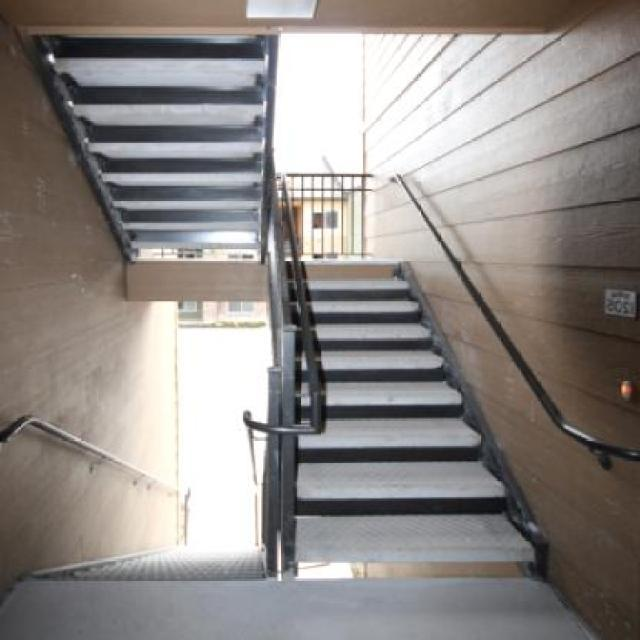stair: (220, 138, 580, 604)
